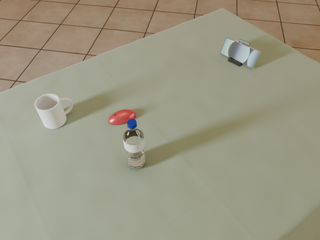bottle: (123, 119, 146, 169)
cup: (35, 94, 73, 129)
mouse: (108, 109, 136, 125)
phone: (220, 37, 260, 68)
